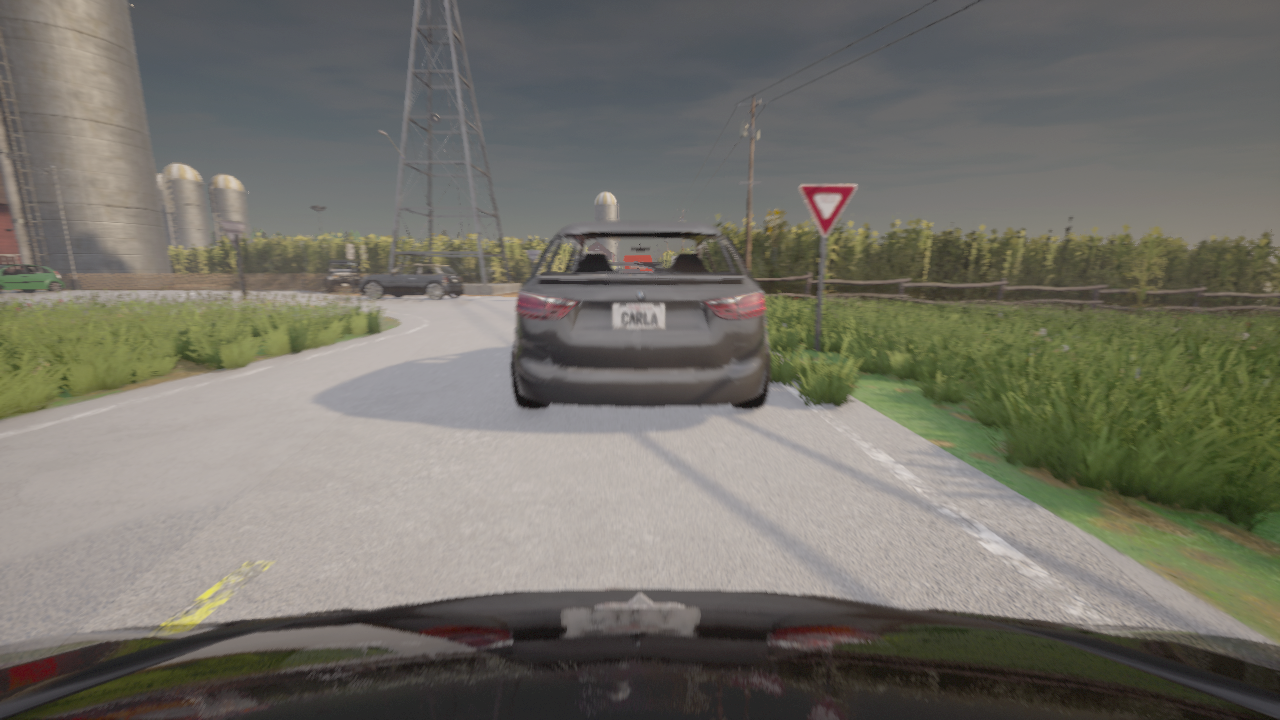cyclist: (0, 588, 1279, 719), (511, 221, 769, 409), (360, 264, 464, 300), (325, 260, 362, 292)
